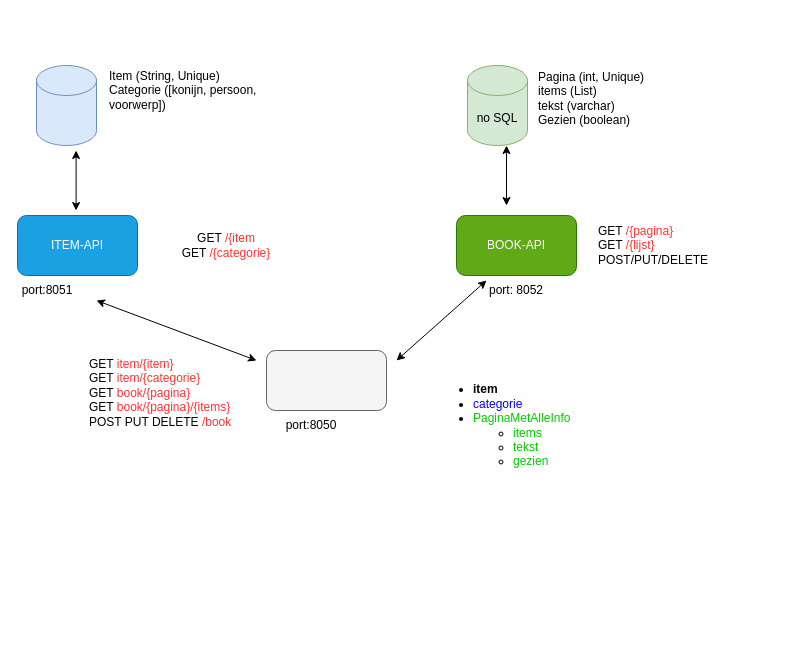
Some shapes in this 794 by 657 pixel diagram are drawn without their labels. The shapes that lost their labels are listed below. From the top down, each one's centre as x and y in pixels, then its label:
At [66,105]: "SQL".
At [326,380]: "EDGE-API".
